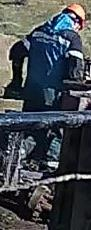helmet: (62, 3, 86, 34)
vest: (27, 21, 83, 114)
